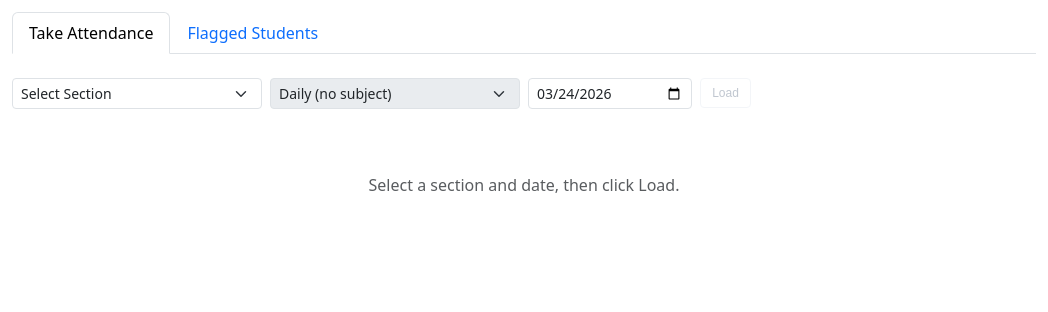
Test: AttendancePage › flagged students › shows empty state when no flagged students
The image size is (1048, 312).
Click the button with class "nav-link" showing "Flagged Students": (253, 33) [170, 12, 335, 54]
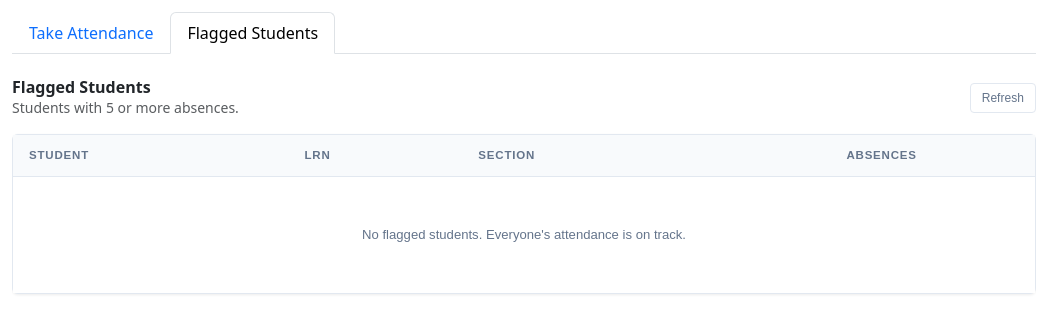
Expected: the text "No flagged students" is shown, [362, 228, 686, 242]
